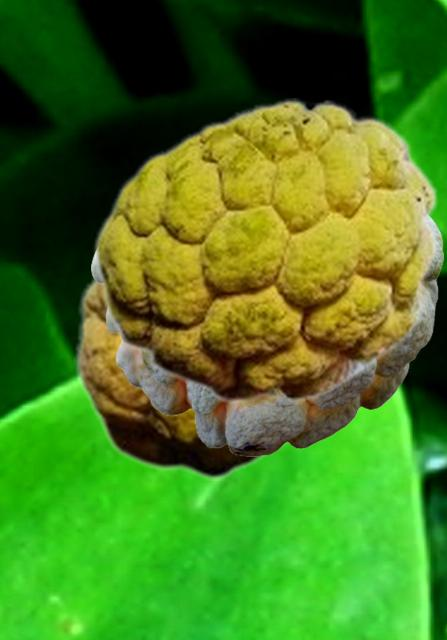atis: (92, 98, 438, 403), (91, 217, 442, 455), (73, 275, 290, 479)
